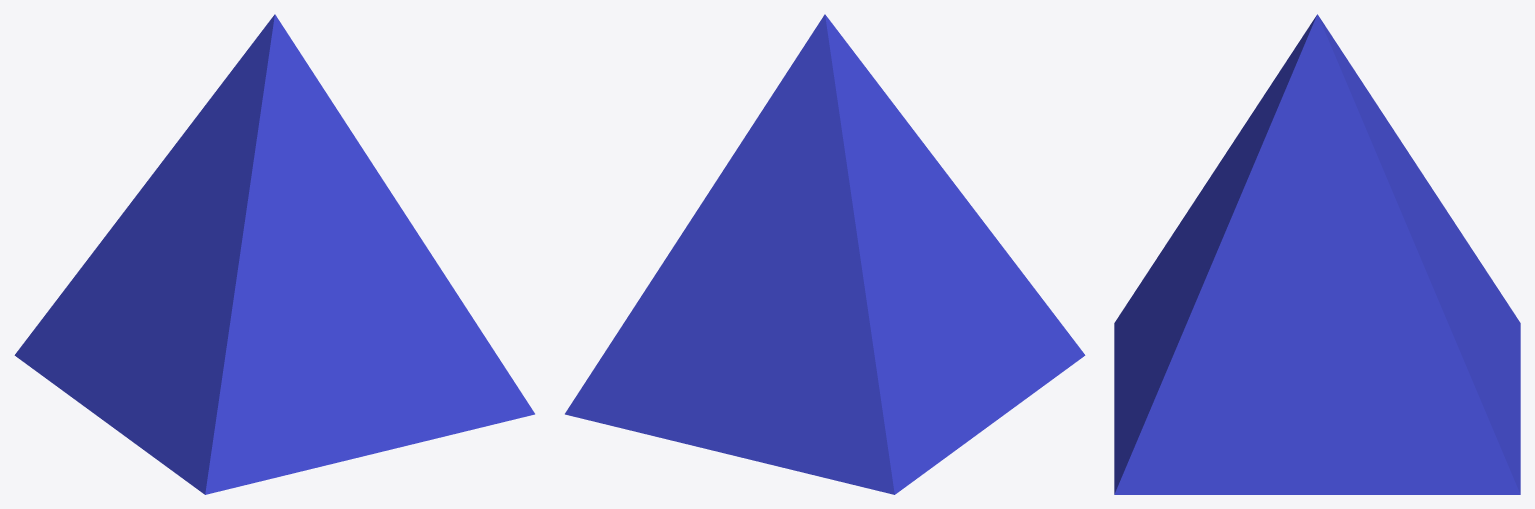
The model's file is mPyramid.fbx.
3 renders of one model, left to right at view 1: azimuth 30°, elevation 25°; view 2: azimuth 150°, elevation 25°; view 3: azimuth 270°, elevation 25°, orthographic. The views are drawn at different scales.
Visible parts, largest first — view 1: root; view 2: root; view 3: root.
Boxes of the visible parts, bbox=[...] form: root: bbox=[14, 14, 534, 494]; root: bbox=[565, 14, 1085, 494]; root: bbox=[1114, 14, 1520, 494].
Size of the model in its own units: 0.5054 by 0.5422 by 0.5054.
